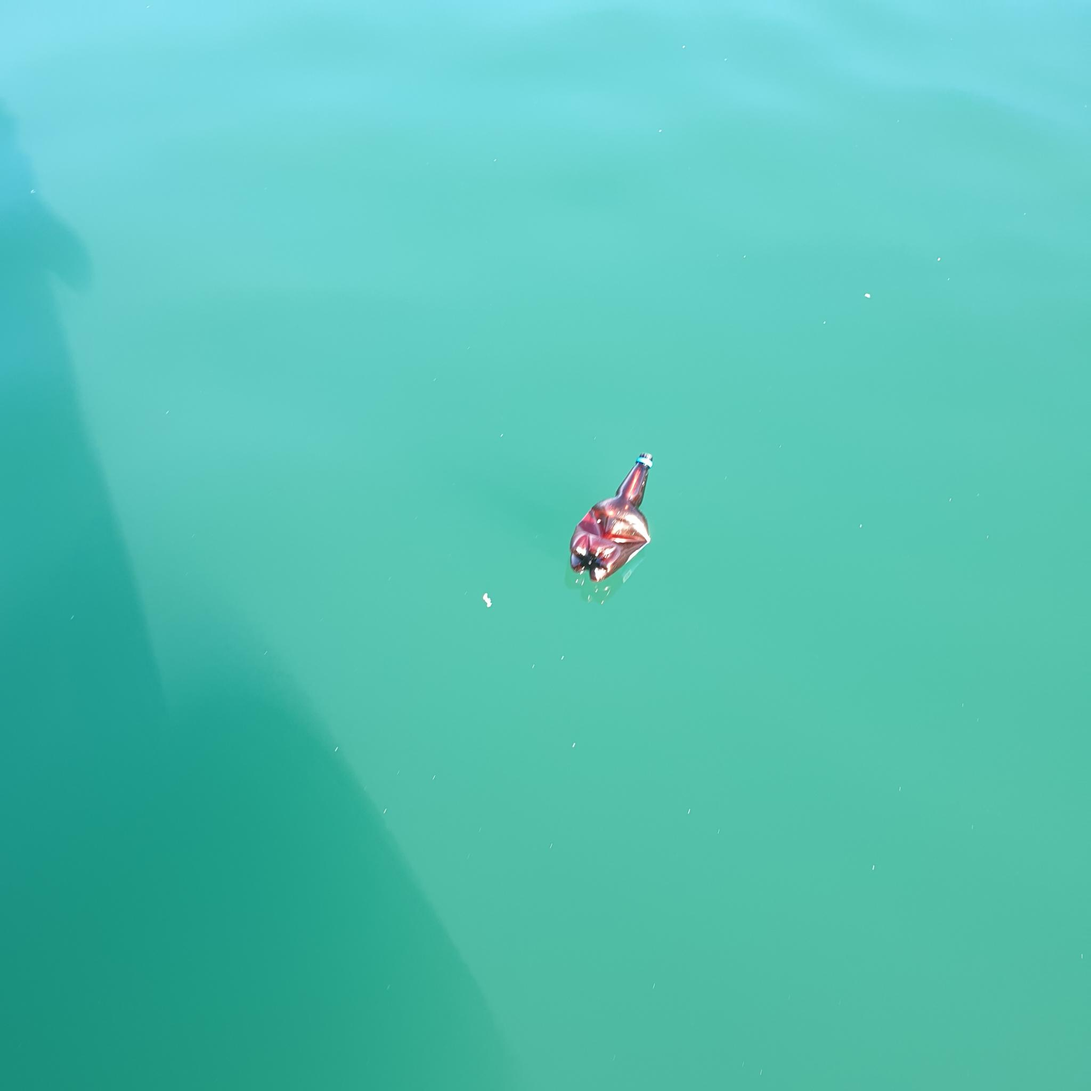sampah_terapung: (571, 453, 653, 583)
